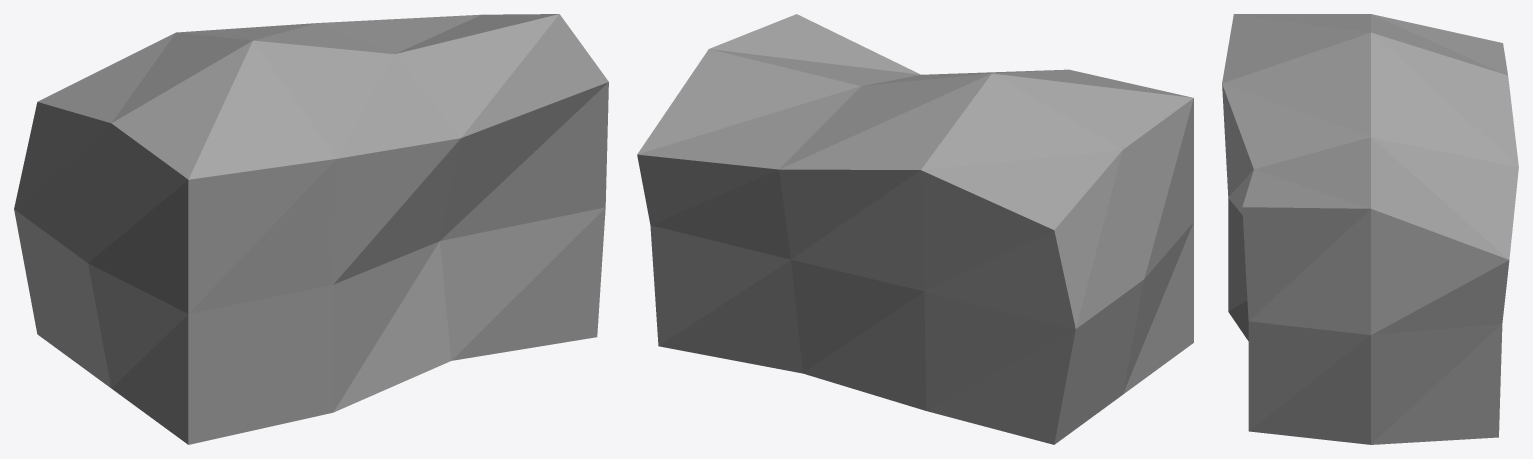
File: Isl_12_Stone_3.fbx
3 views of the same model, side by side, from view 1: azimuth 30°, elevation 25°; view 2: azimuth 150°, elevation 25°; view 3: azimuth 270°, elevation 25° (orthographic). The views are drawn at different scales.
Parts seen in each view (by area): view 1: Isl_12_Stone_3; view 2: Isl_12_Stone_3; view 3: Isl_12_Stone_3.
Part boxes in pixels (x1,y1,x2,y2): Isl_12_Stone_3: (14,14,608,444); Isl_12_Stone_3: (637,14,1193,444); Isl_12_Stone_3: (1222,14,1518,444).
Size of the model in its own units: 195 by 115 by 120.
Materials: 1 (1 with a texture image).
